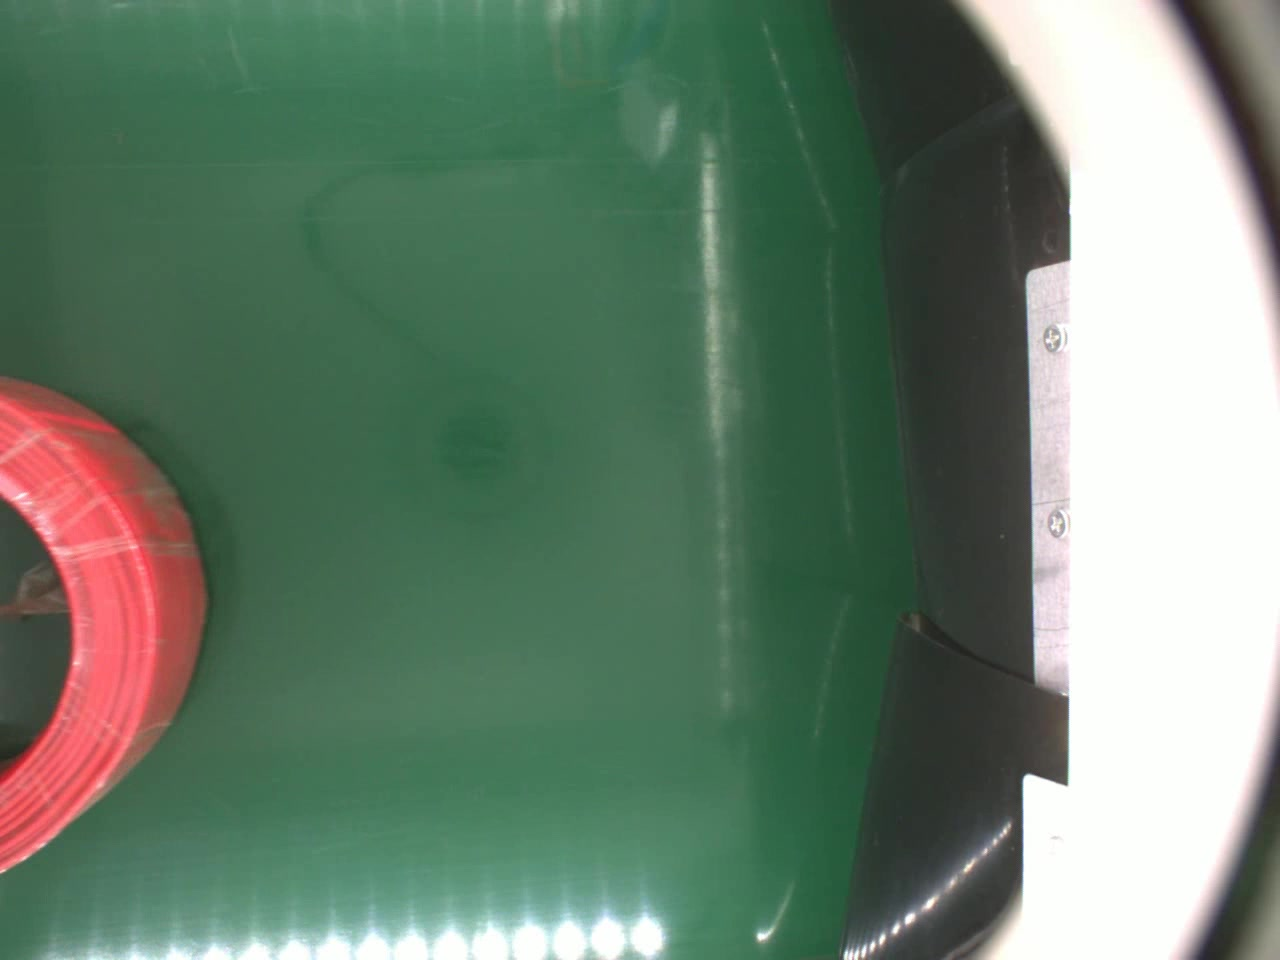red: (0, 373, 209, 873)
